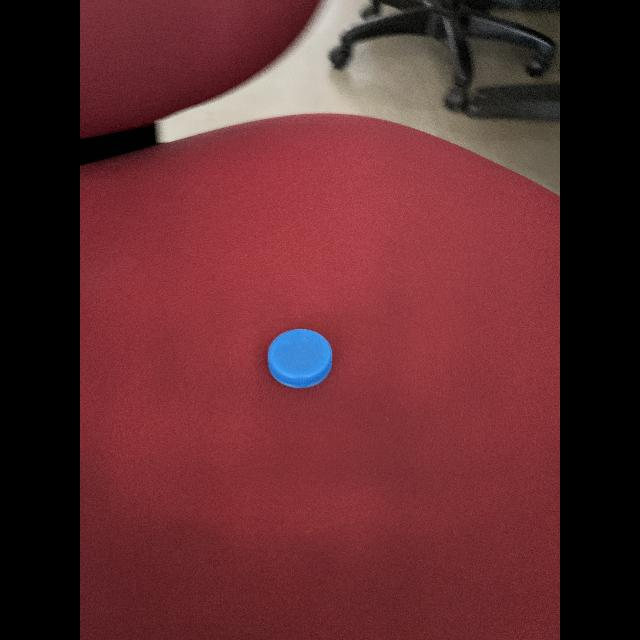plastic_bottle_cap: (266, 326, 336, 386)
